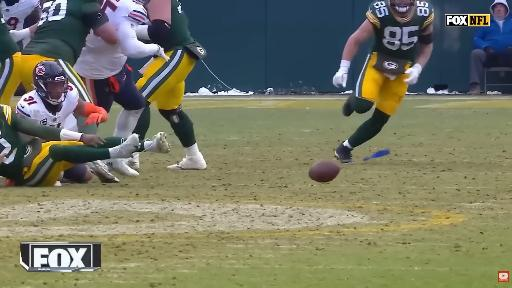Helmet: (33, 61, 67, 105), (390, 0, 414, 12), (133, 0, 150, 5)
Jersey: (22, 0, 101, 65), (366, 1, 433, 61), (16, 84, 78, 128), (74, 33, 127, 79), (0, 106, 29, 181), (156, 0, 194, 51), (2, 0, 39, 30), (0, 12, 19, 65)
Player: (333, 0, 434, 163), (0, 106, 168, 186), (74, 0, 168, 137), (134, 0, 206, 170), (8, 0, 118, 102), (16, 61, 108, 131), (0, 10, 21, 104), (0, 0, 40, 49), (2, 0, 40, 48)
